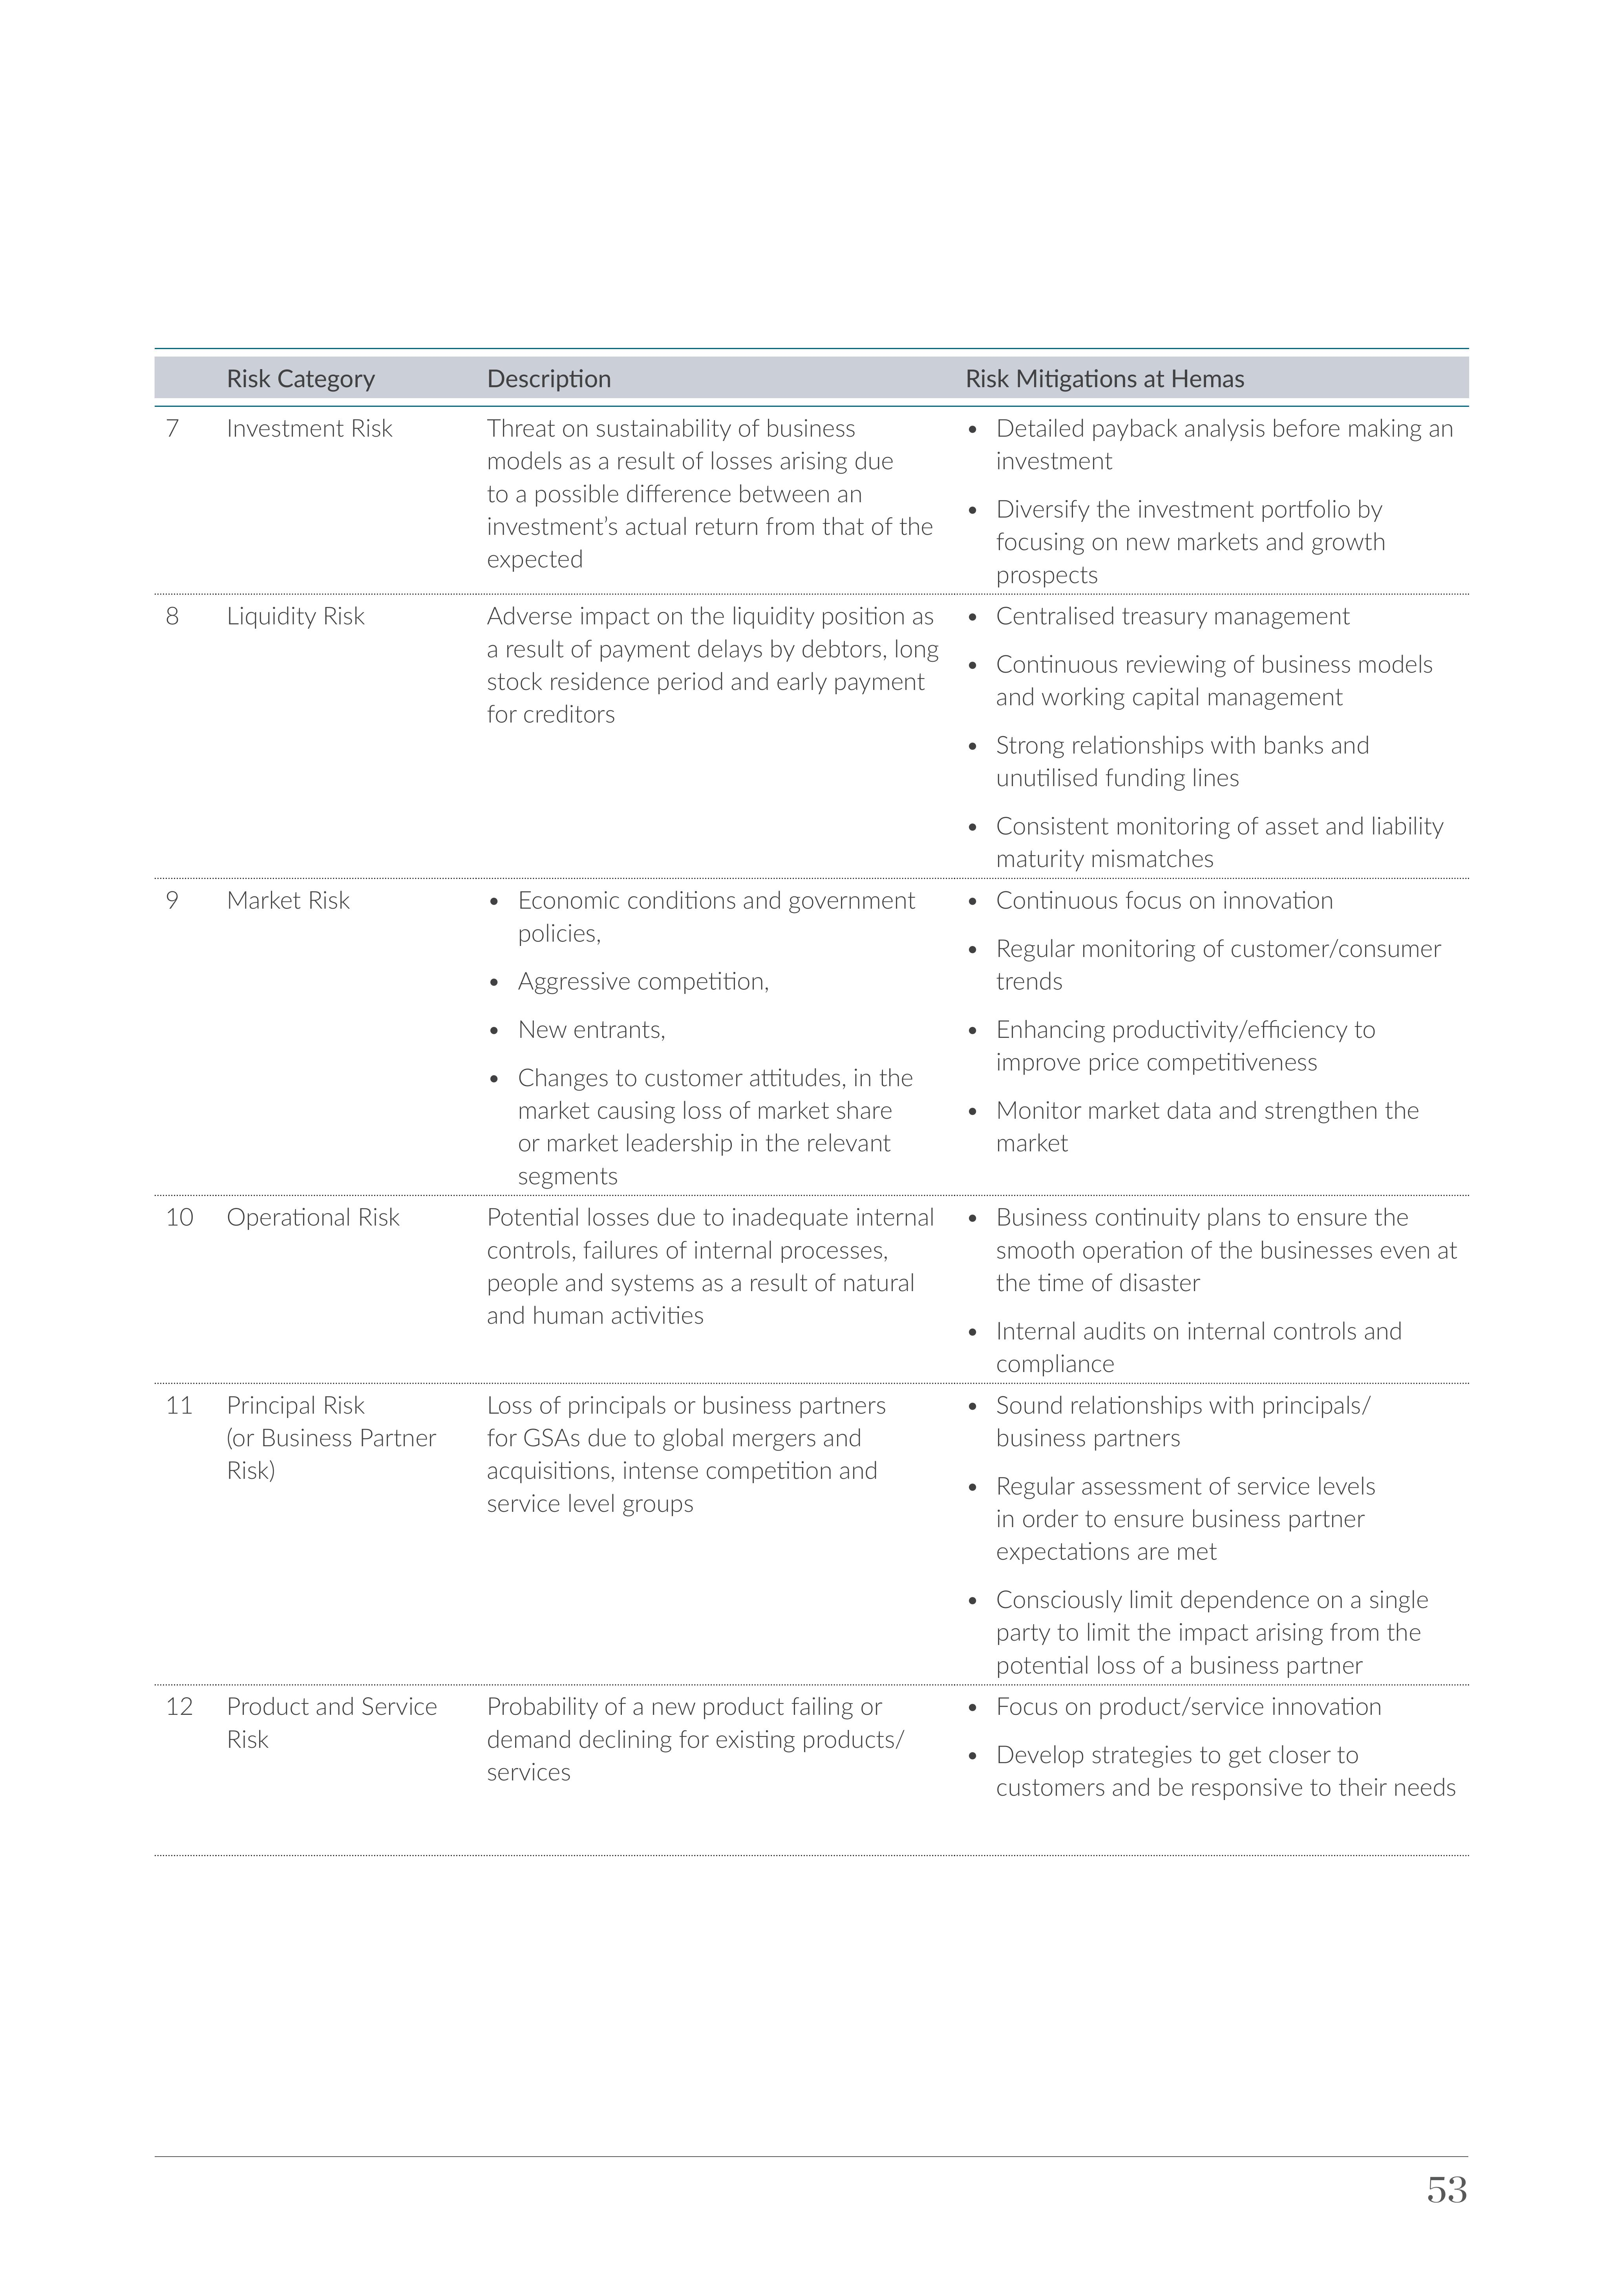table: (142, 337, 1482, 1880)
